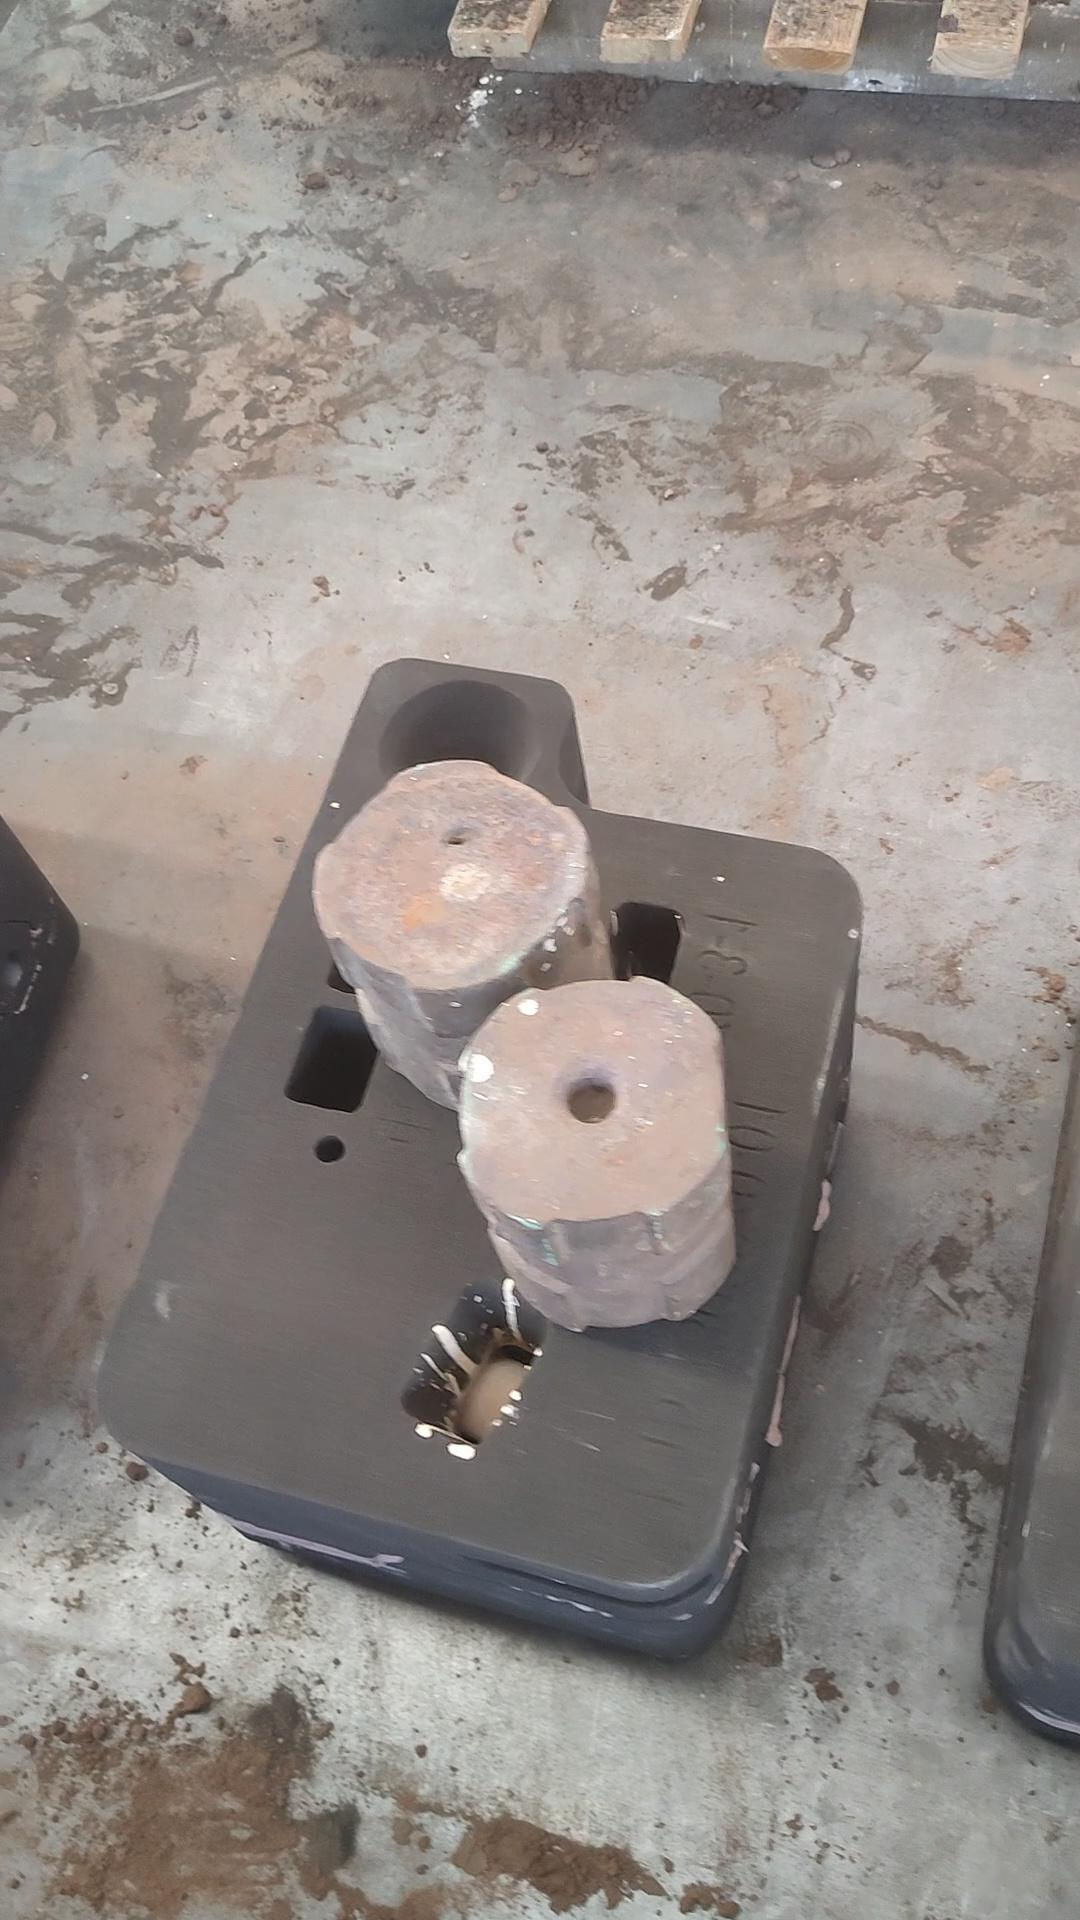pouring hole: (378, 680, 539, 808)
